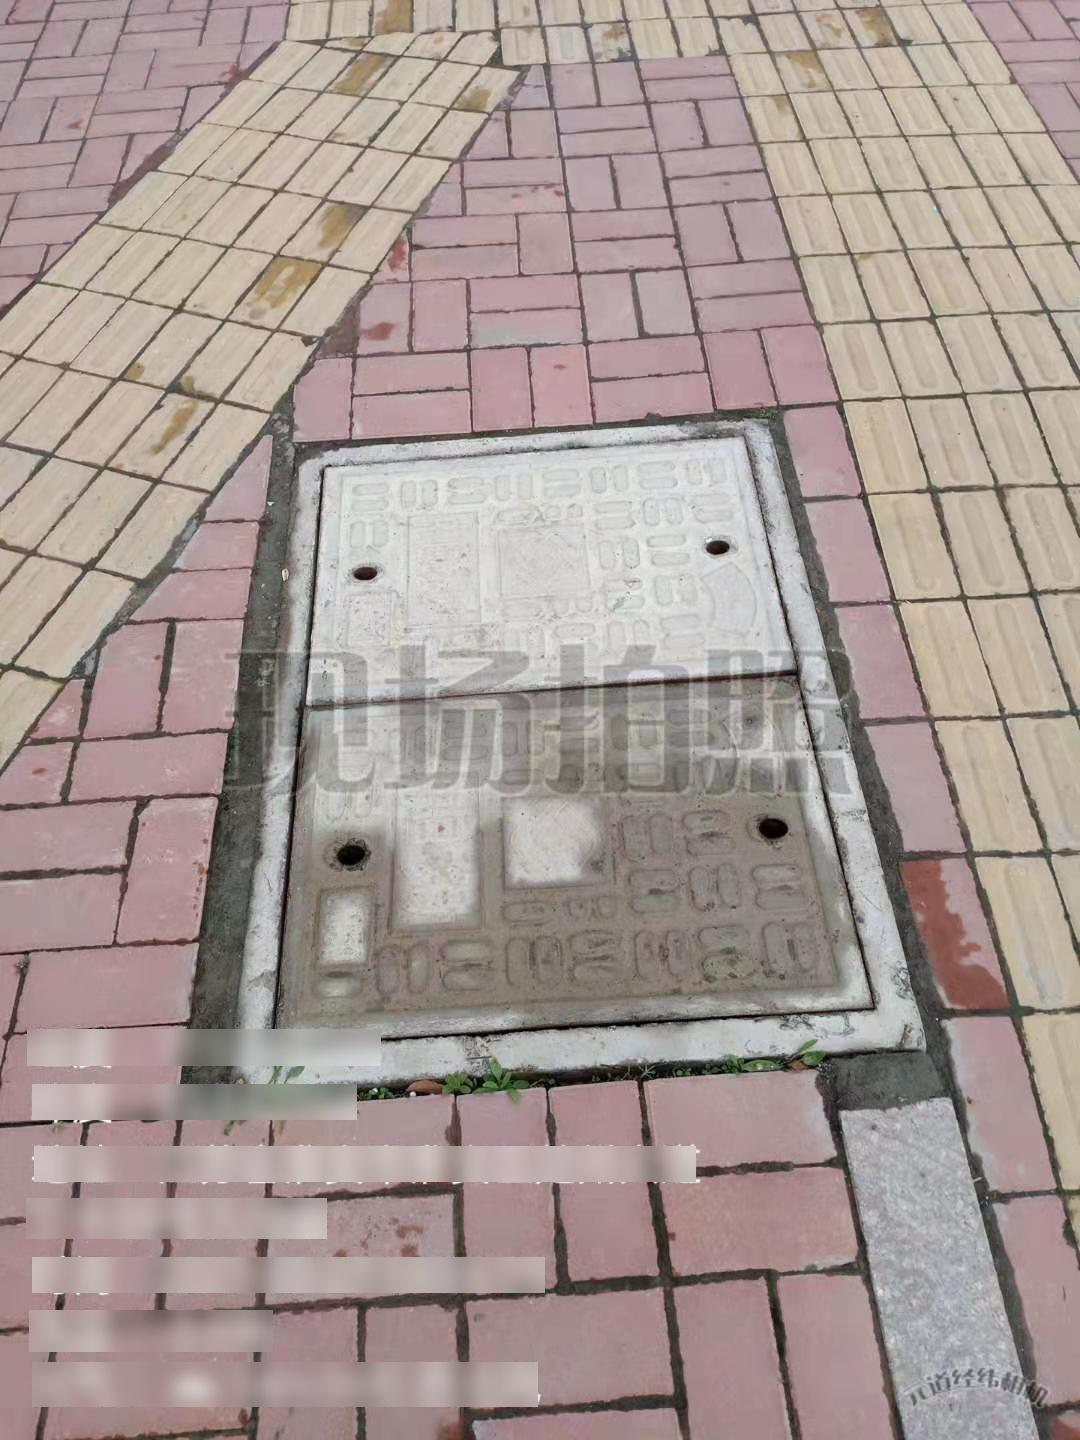wellcover: (223, 383, 928, 1084)
